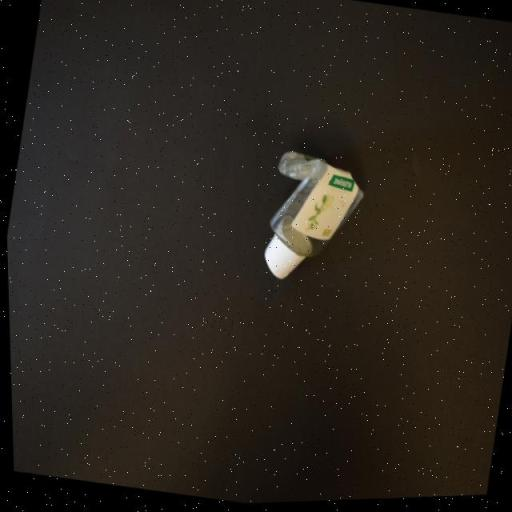plastic: (257, 150, 370, 293)
